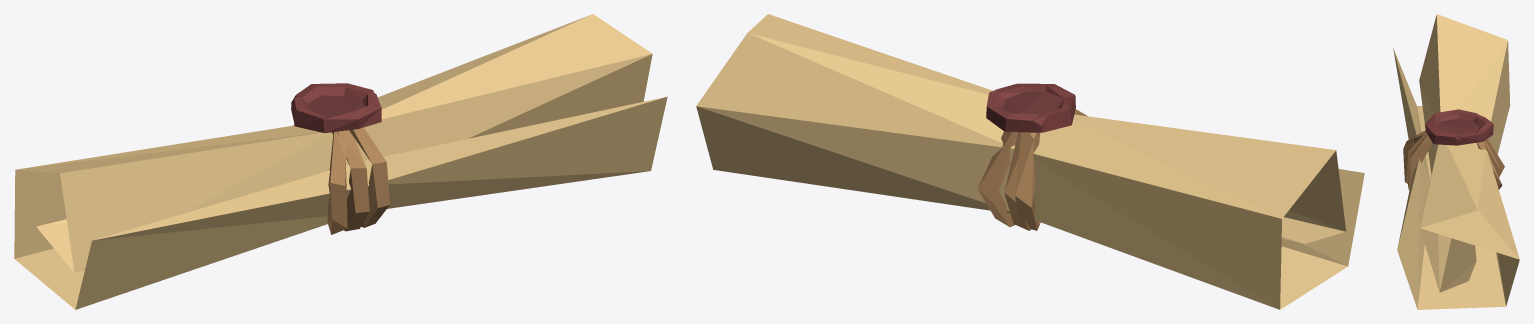
The model's file is Scroll_003.fbx.
3 views of the same model, side by side, from view 1: azimuth 30°, elevation 25°; view 2: azimuth 150°, elevation 25°; view 3: azimuth 270°, elevation 25° (orthographic). The views are drawn at different scales.
Parts seen in each view (by area): view 1: Scroll_003; view 2: Scroll_003; view 3: Scroll_003.
Boxes of the visible parts, x1,y1,x2,y2 form: Scroll_003: (14, 14, 667, 309); Scroll_003: (696, 14, 1364, 309); Scroll_003: (1393, 14, 1519, 309).
Bounding box in the file's own units: 0.2832 × 0.0604 × 0.0739.
